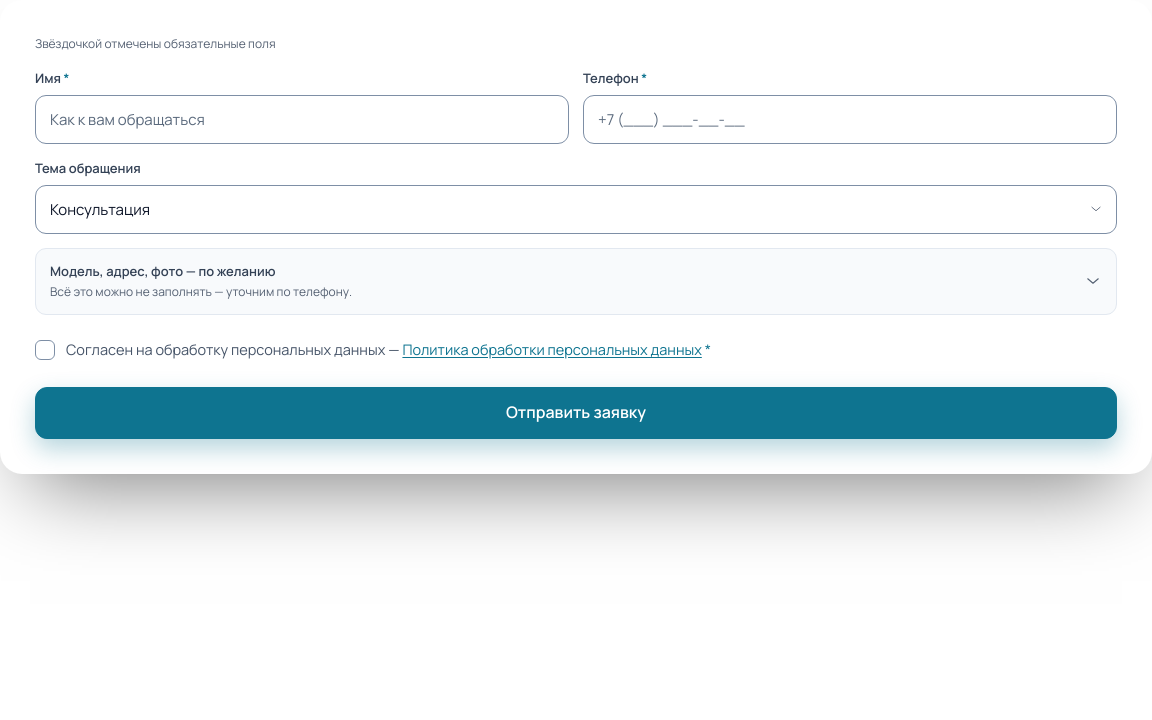
Test: LeadForm › без телефона компании ошибка не рисует пустую ссылку tel: и не зовёт звонить
The width and height of the screenshot is (1152, 720).
In the field labelled "Имя *": point(302, 119) x1=35 y1=95 x2=569 y2=144, type "Ирина"
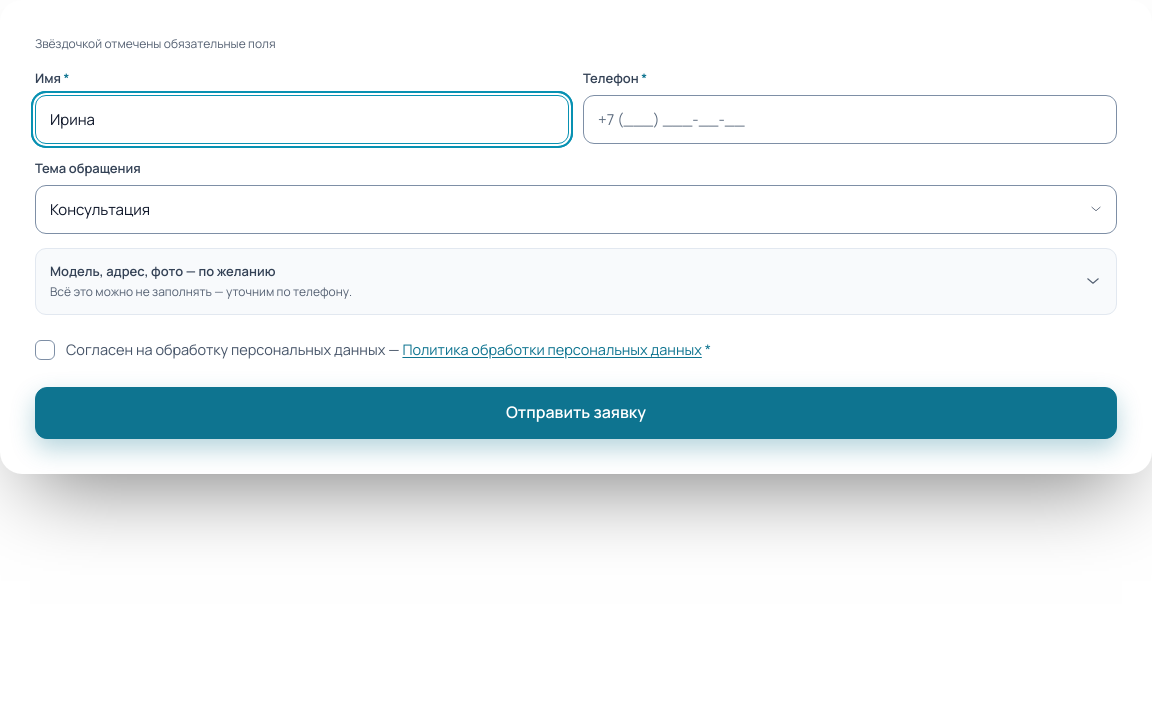
In the field labelled "Телефон *": point(850, 119) x1=583 y1=95 x2=1117 y2=144, type "+7 900 123-45-67"
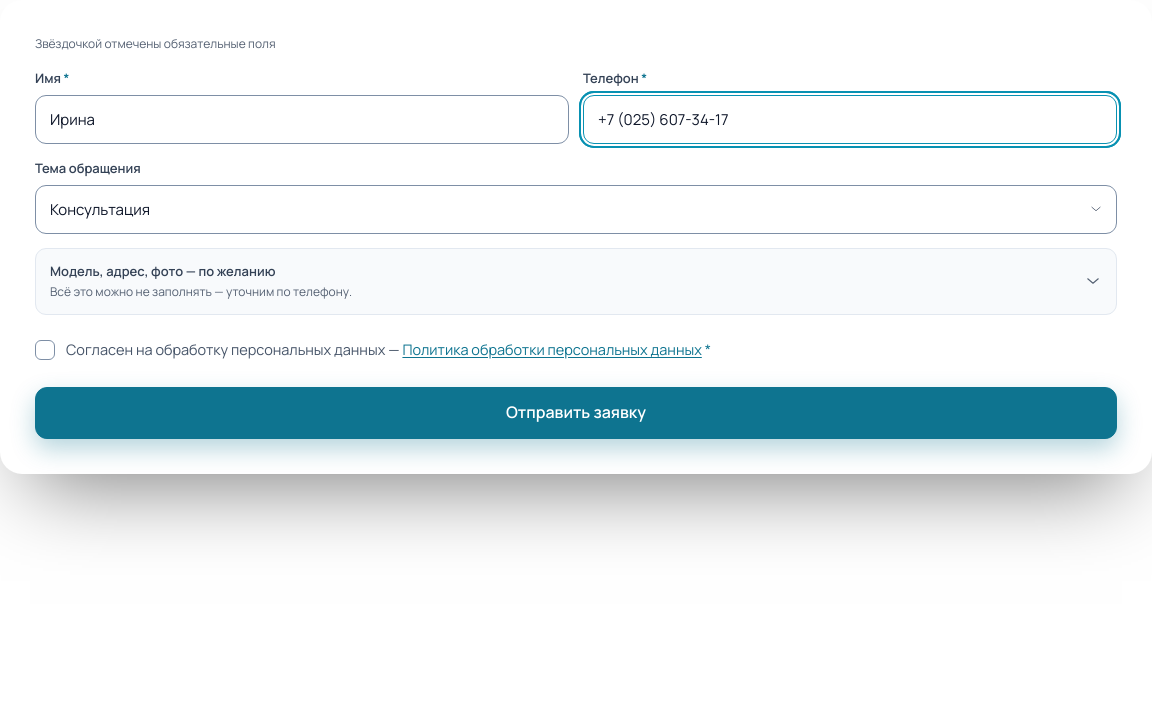
Click the checkbox: point(45, 350) x1=35 y1=340 x2=55 y2=360
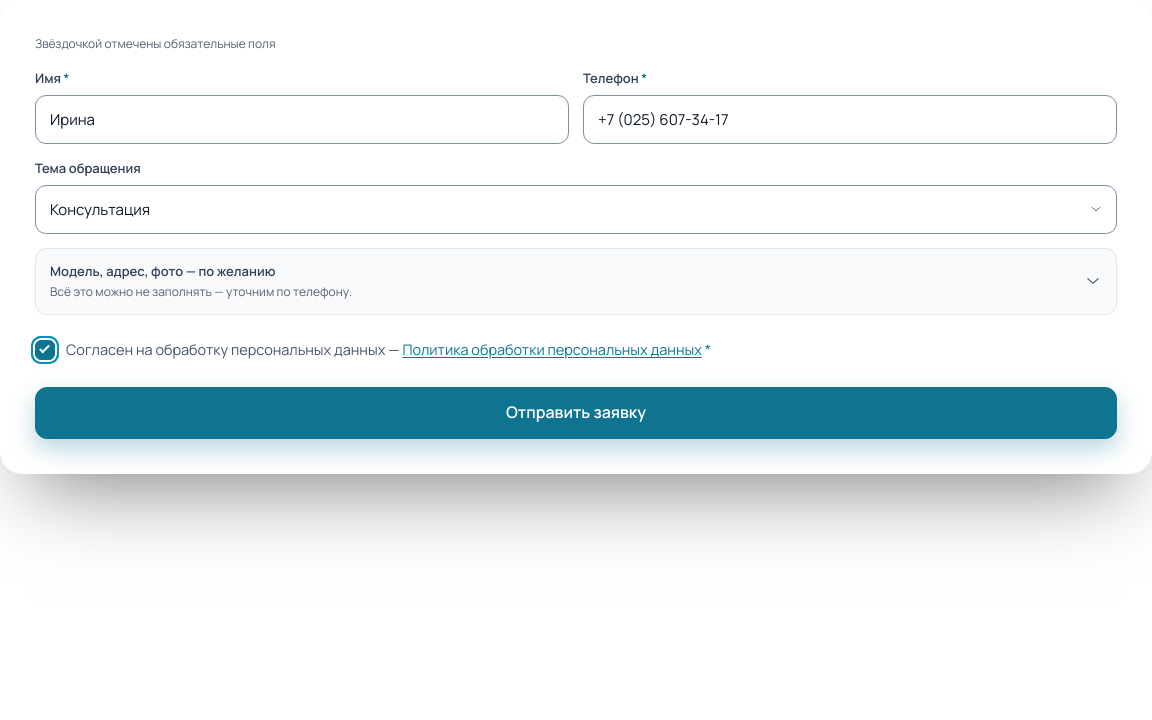
Click the button "Отправить заявку": point(576, 413) x1=35 y1=387 x2=1117 y2=439
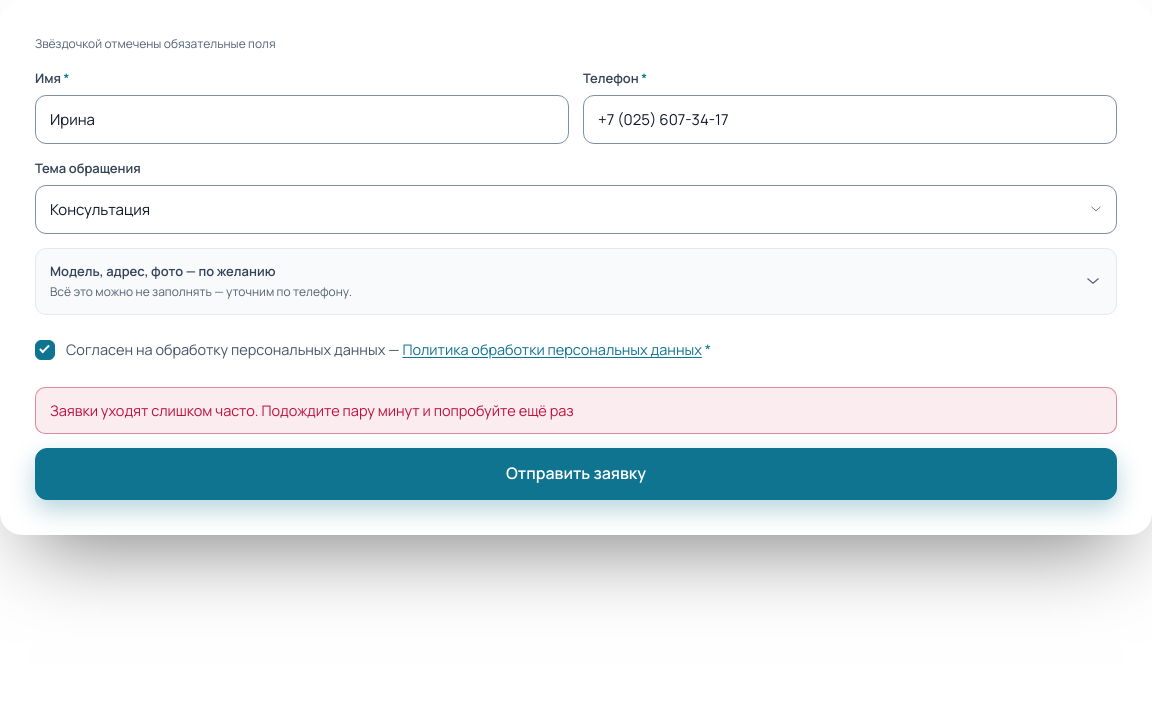
Check: the text "Заявки уходят слишком часто. Подождите пару минут и попробуйте ещё раз" is shown 2 times
